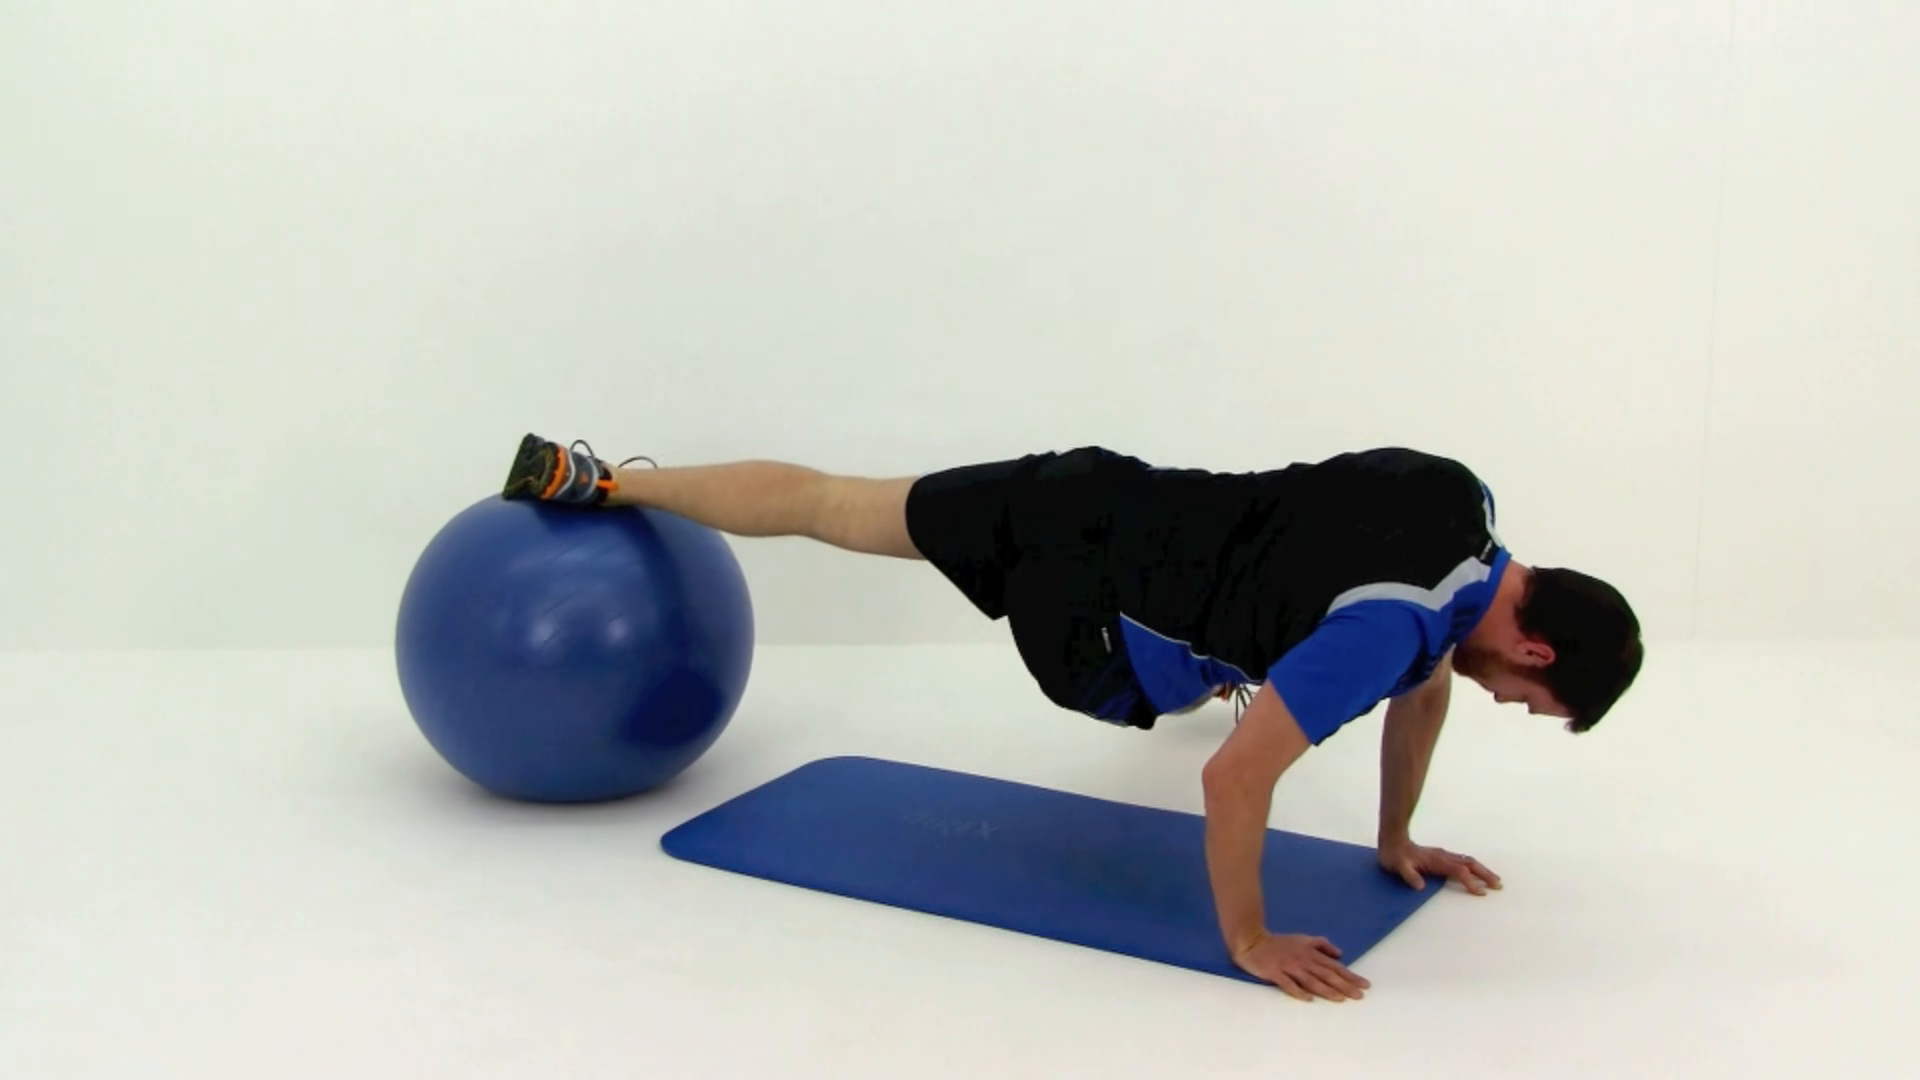yogaball: (381, 469, 781, 819)
